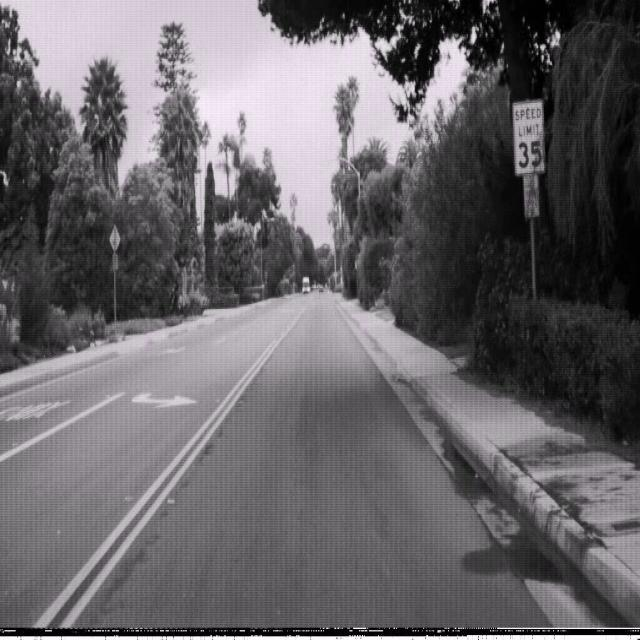speedLimit35: (512, 98, 546, 175)
